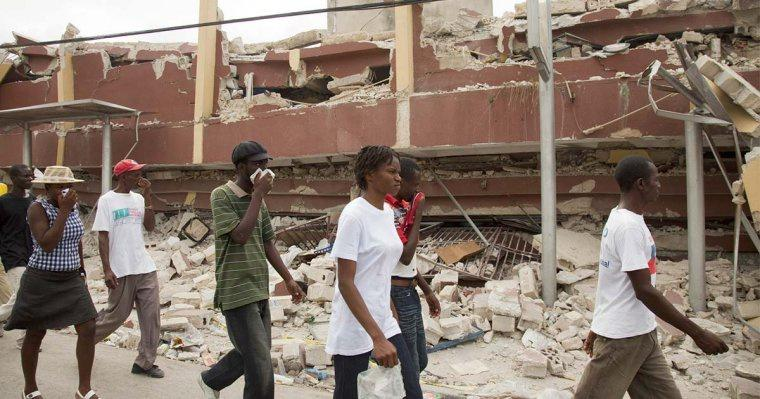victim: (572, 154, 730, 399), (198, 138, 306, 398), (325, 140, 423, 399), (15, 164, 102, 399), (83, 156, 170, 380)
